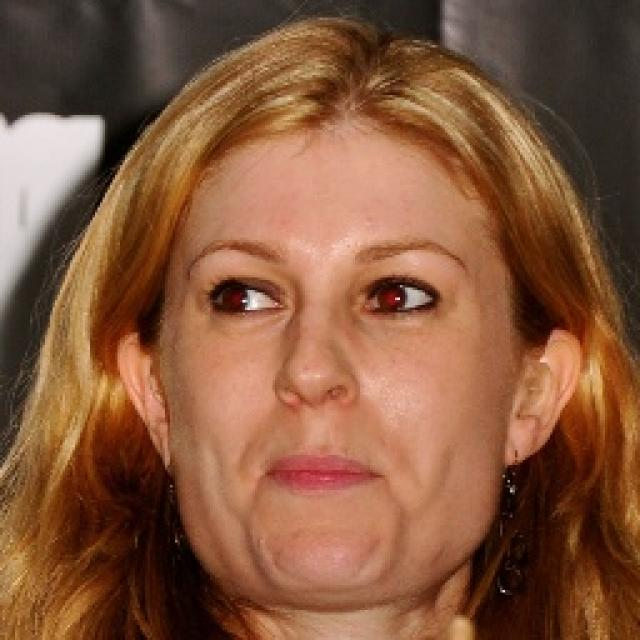earlobe: (503, 416, 543, 468), (149, 422, 175, 474)
eye: (207, 277, 287, 315), (362, 281, 439, 318)
nose: (282, 388, 355, 442)
wholeear: (503, 329, 583, 467), (116, 328, 174, 473)
